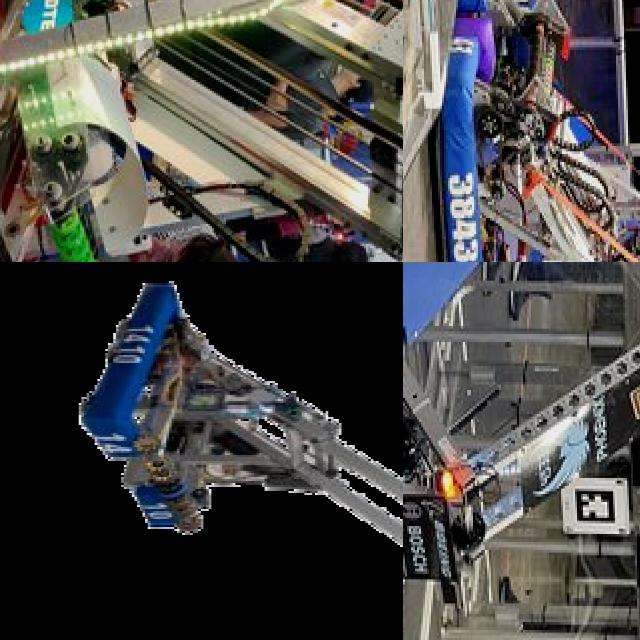FRC-Robots: (5, 262, 403, 575), (0, 0, 403, 262), (403, 262, 640, 640), (430, 0, 640, 262)
